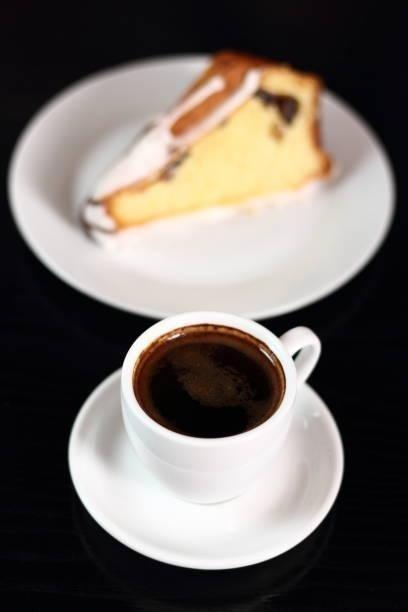cup-handle: (118, 310, 322, 506)
